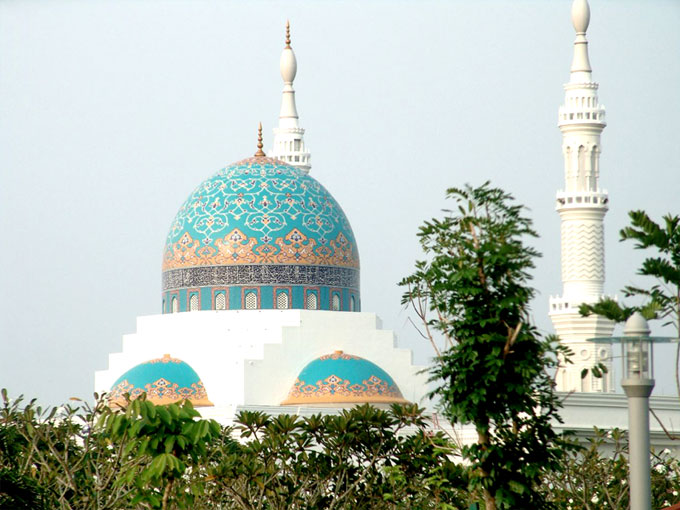Mosque: (114, 1, 625, 423)
